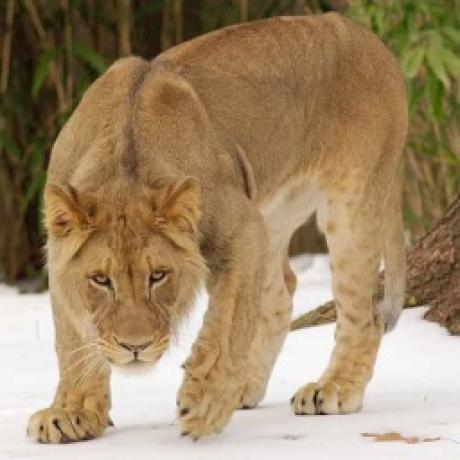Lion: (23, 0, 416, 448)
